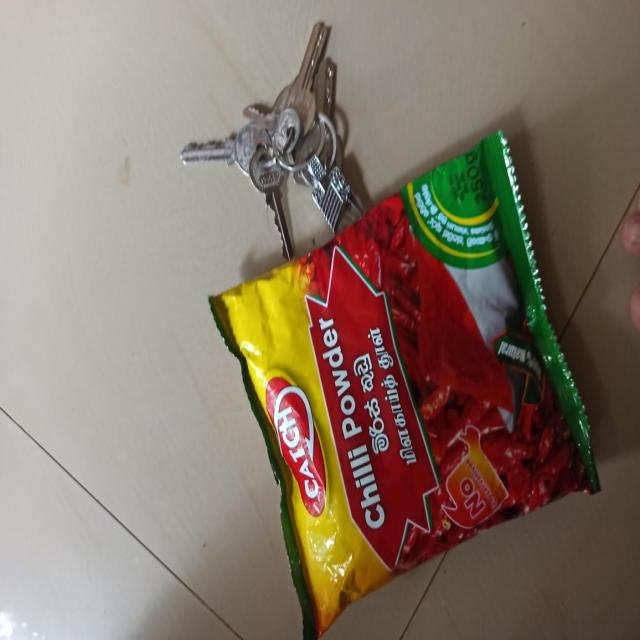Chilli Powder: (200, 167, 622, 640)
